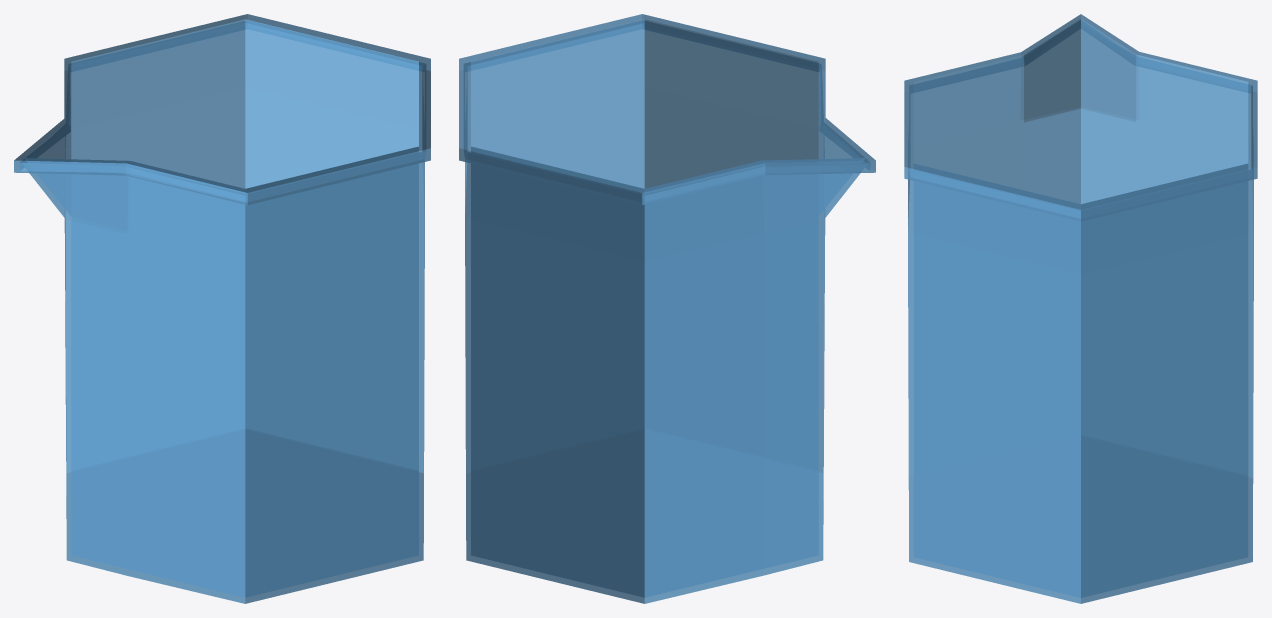
File: Beaker.fbx
The picture shows the model from 3 angles, left to right: view 1: azimuth 30°, elevation 25°; view 2: azimuth 150°, elevation 25°; view 3: azimuth 270°, elevation 25°; orthographic projection. The views are drawn at different scales.
Parts seen in each view (by area): view 1: Node 0; view 2: Node 0; view 3: Node 0.
Part boxes in pixels (x1=…): Node 0: x1=14, y1=14, x2=430, y2=603; Node 0: x1=459, y1=14, x2=875, y2=603; Node 0: x1=904, y1=14, x2=1257, y2=603.
Bounding box in the file's own units: 0.1584 × 0.197 × 0.2079.
